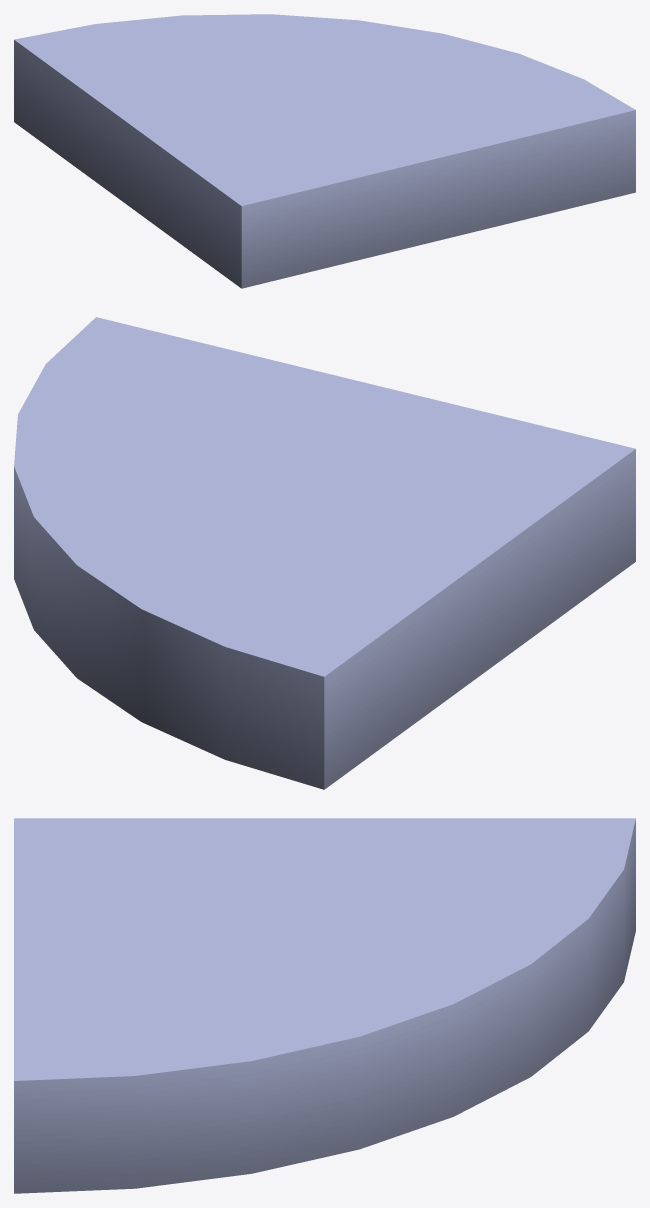
The model's file is floor-thick-corner-round.fbx.
The picture shows the model from 3 angles, top to bottom: view 1: azimuth 30°, elevation 25°; view 2: azimuth 150°, elevation 25°; view 3: azimuth 270°, elevation 25°; orthographic projection. The views are drawn at different scales.
Parts seen in each view (by area): view 1: floor-thick-corner-round; view 2: floor-thick-corner-round; view 3: floor-thick-corner-round.
Boxes of the visible parts, left/top/right/bottom form: floor-thick-corner-round: left=14, top=14, right=635, bottom=288; floor-thick-corner-round: left=14, top=317, right=635, bottom=789; floor-thick-corner-round: left=14, top=818, right=635, bottom=1193.
Size of the model in its own units: 100 by 20 by 100.
